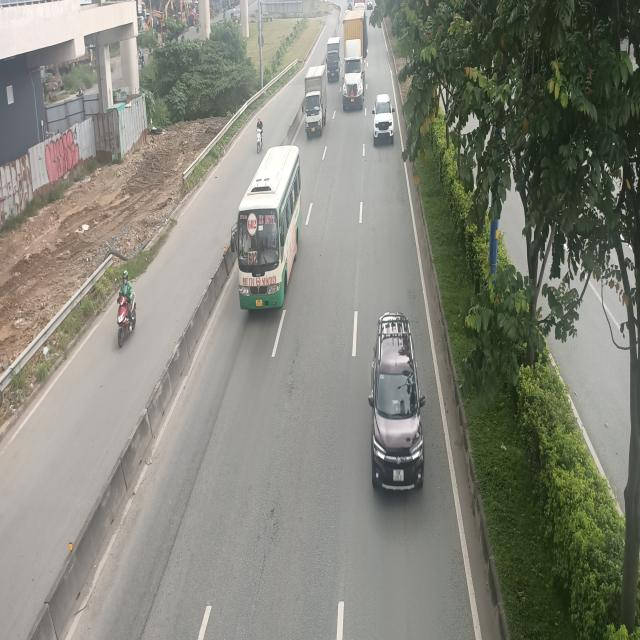car: (371, 316, 427, 492), (373, 93, 396, 145)
coach: (228, 147, 300, 311)
container: (342, 9, 367, 111)
truck: (302, 66, 326, 136), (325, 37, 341, 83)
